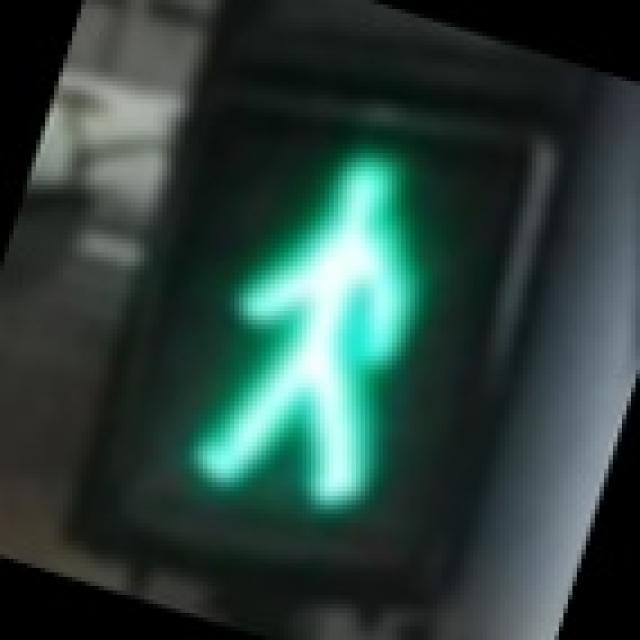geen-crossing: (108, 67, 518, 559)
